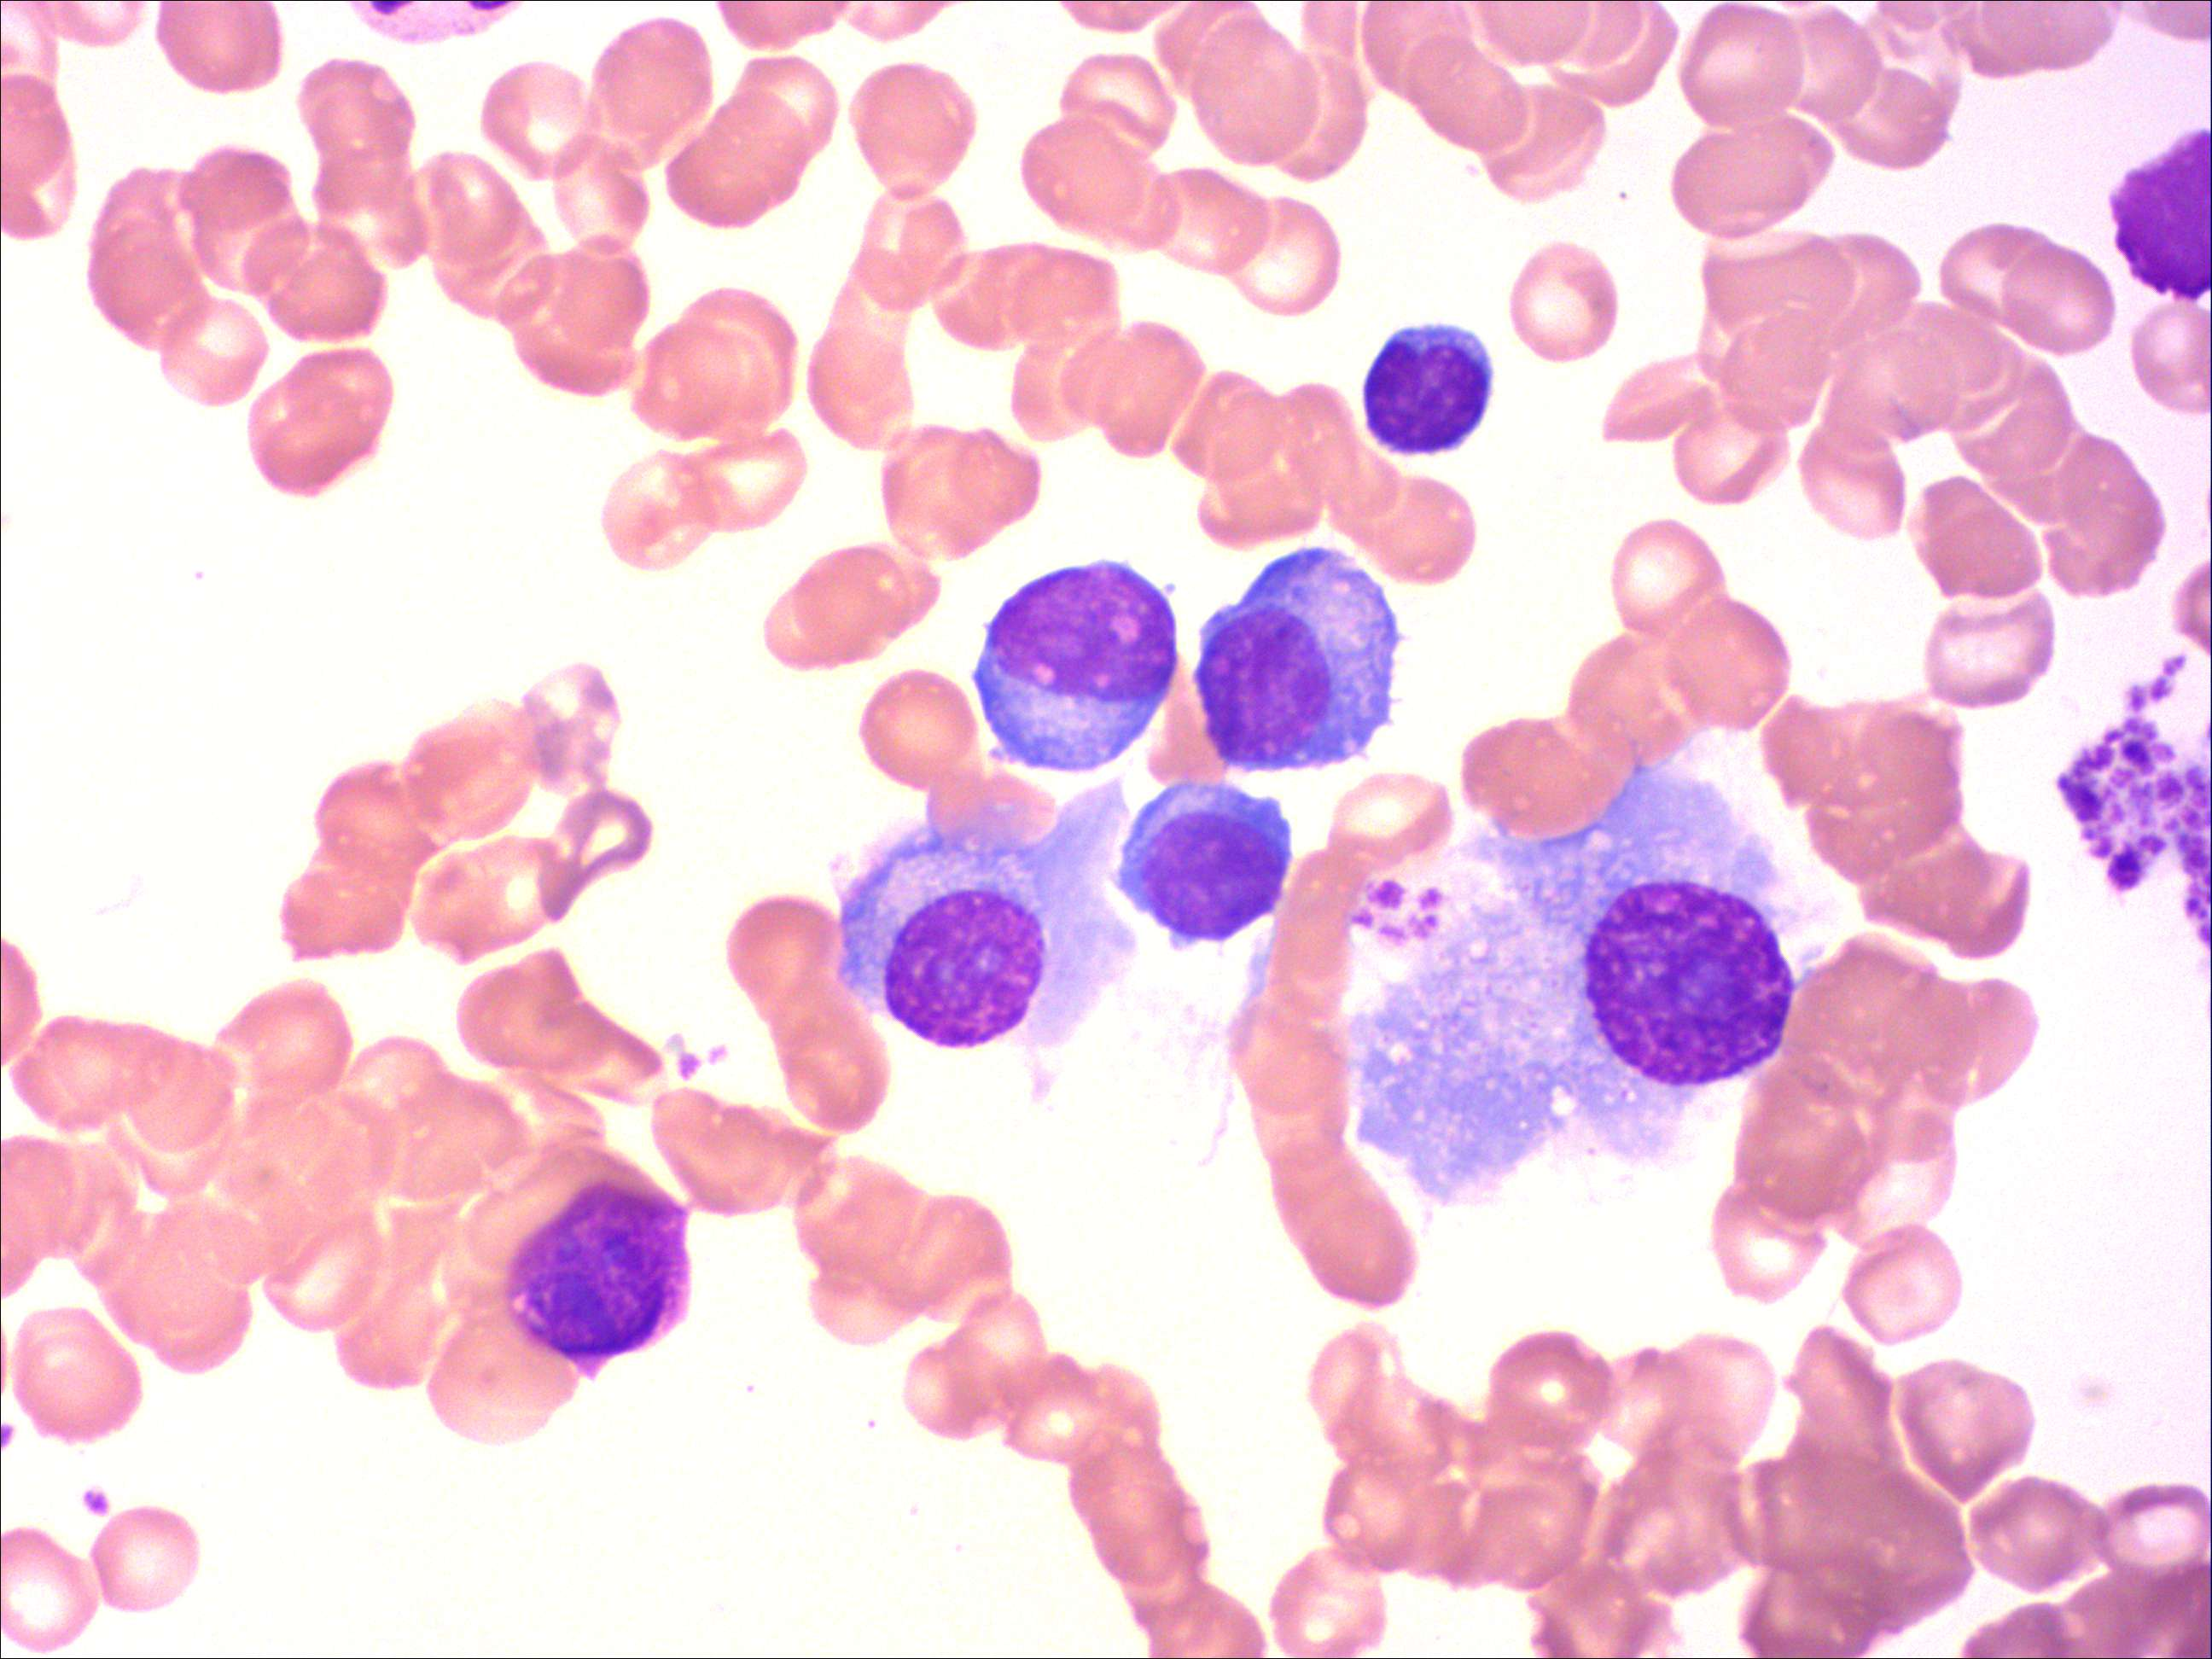32: (1359, 317, 1498, 460)
51: (1336, 753, 1818, 1220), (834, 770, 1146, 1061), (1186, 535, 1406, 779), (968, 554, 1184, 777), (1106, 775, 1296, 946)
x: (495, 1171, 705, 1391), (2101, 120, 2212, 308)
